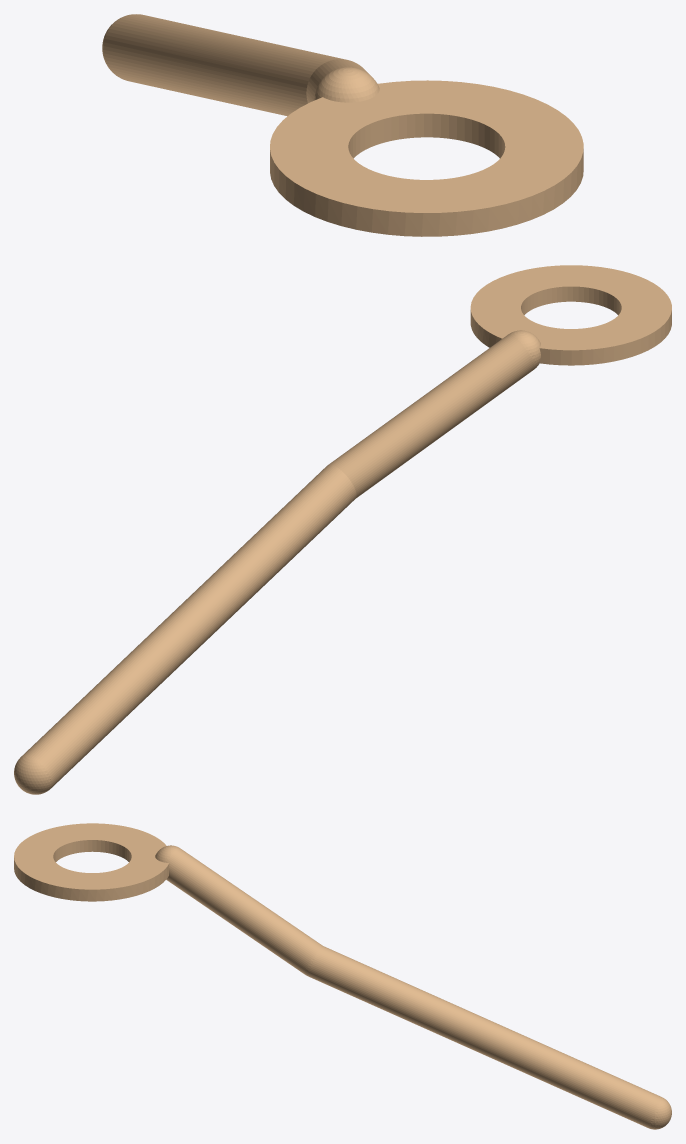
Rendered from starter-motor-positive-feed.glb.
3 views of the same model, one above another, from view 1: azimuth 30°, elevation 25°; view 2: azimuth 150°, elevation 25°; view 3: azimuth 270°, elevation 25° (orthographic). The views are drawn at different scales.
Parts seen in each view (by area): view 1: world; view 2: world; view 3: world.
Boxes of the visible parts, box(x1,y1,x2,y2) form: world: box(102, 14, 583, 236); world: box(14, 265, 671, 794); world: box(14, 823, 671, 1129).
Bounding box in the file's own units: 0.0193 × 0.0181 × 0.0503.
